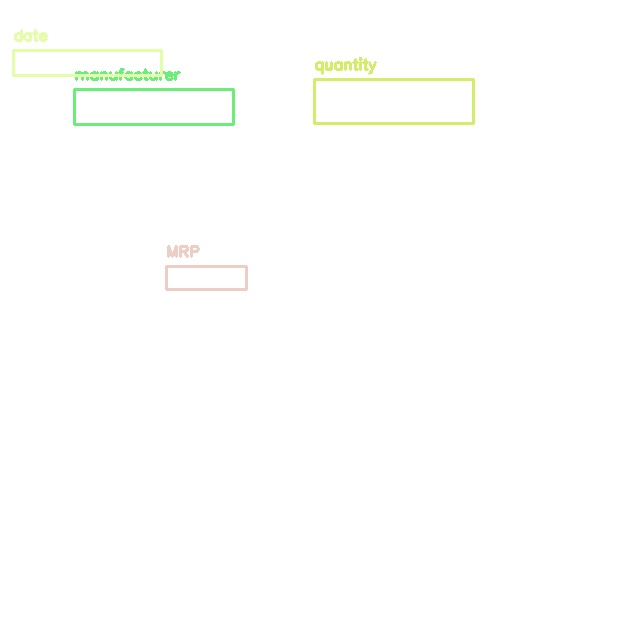MRP: (166, 266, 246, 289)
date: (13, 50, 161, 75)
manufacturer: (74, 89, 233, 124)
quantity: (314, 79, 473, 123)
